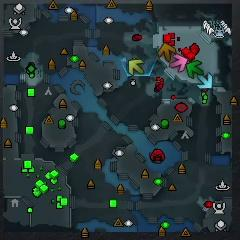x1: (170, 54, 188, 73)
x2: (128, 59, 145, 76)
x3: (197, 72, 213, 89)
x4: (187, 60, 203, 79)
x5: (158, 43, 176, 61)
